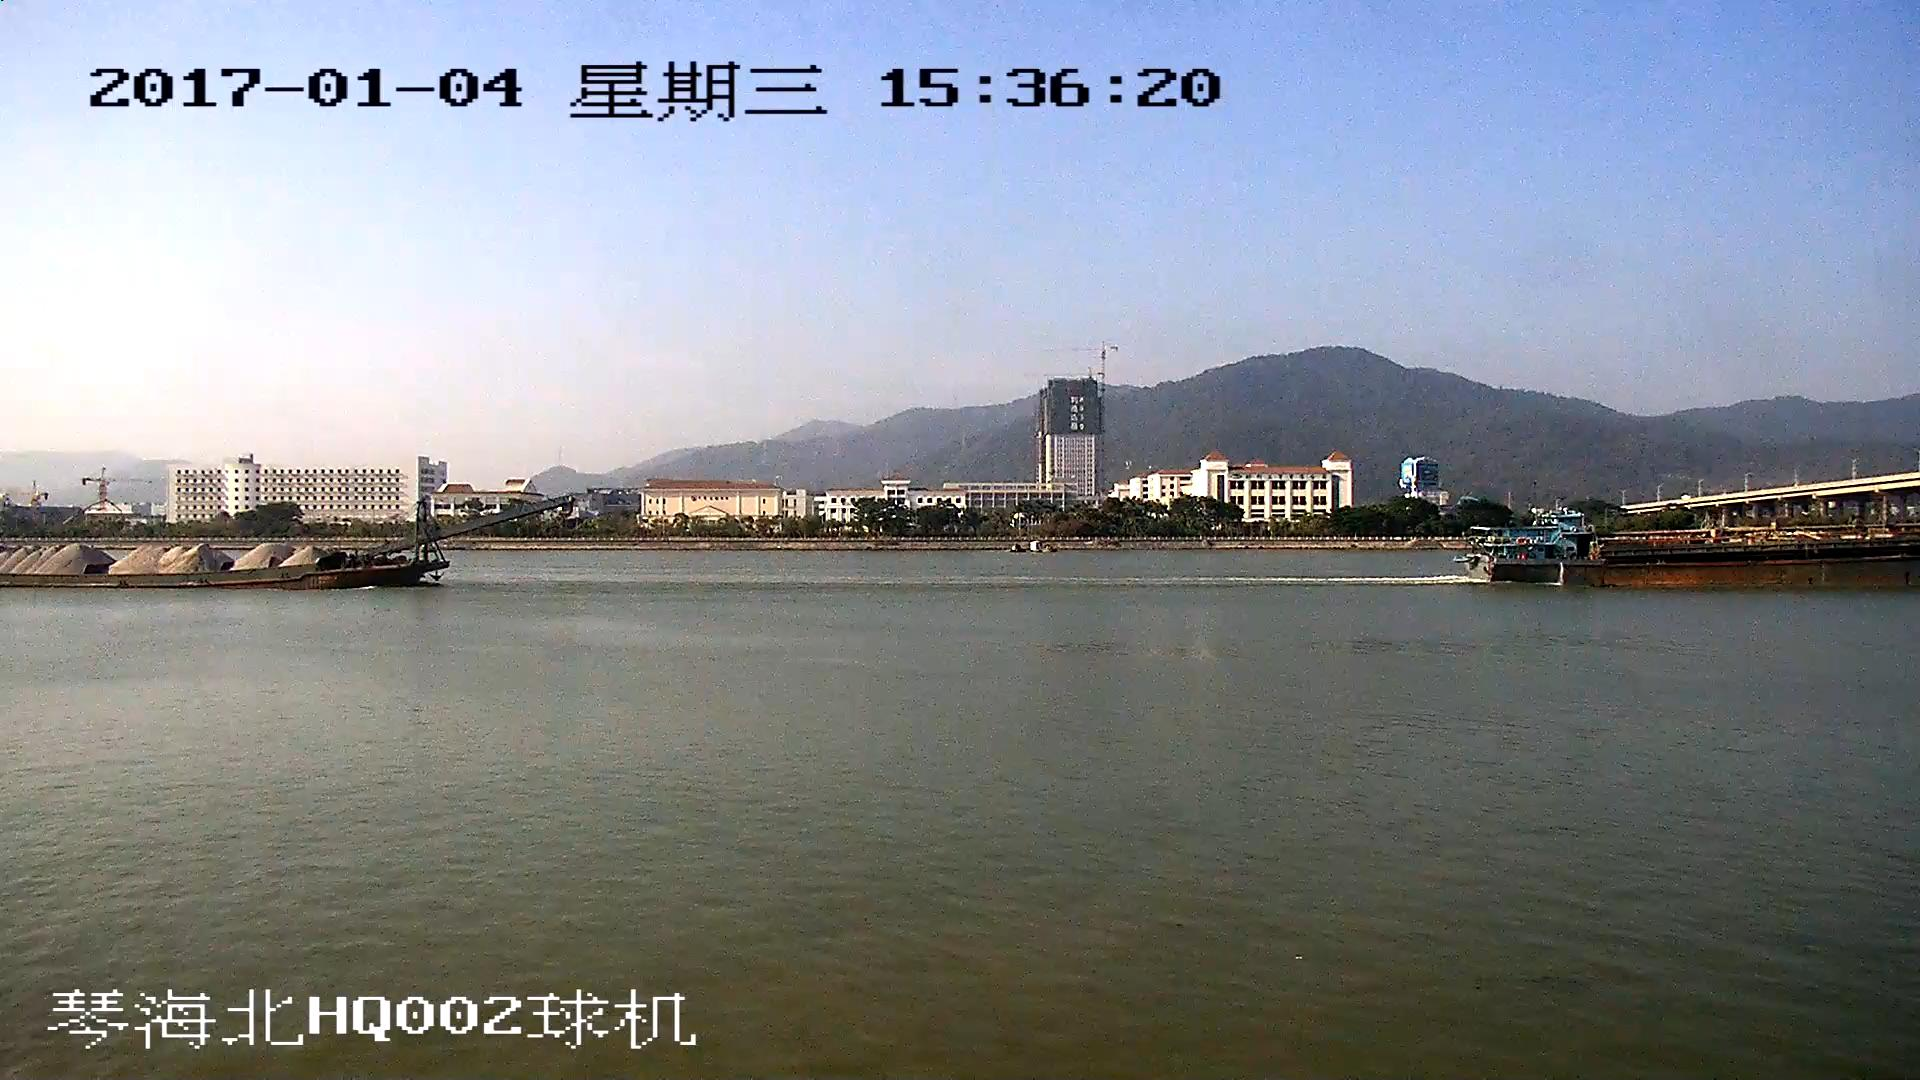bulk cargo carrier: (1466, 523, 1920, 588)
ore carrier: (1, 496, 572, 587)
